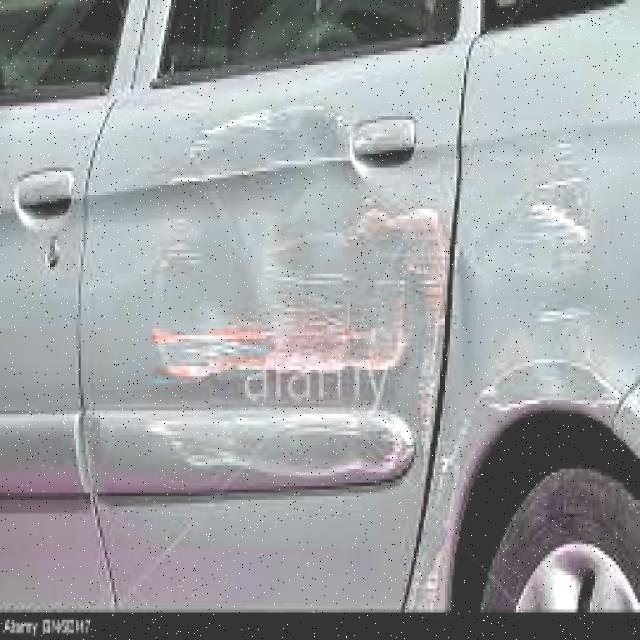car damage: (140, 95, 629, 615)
